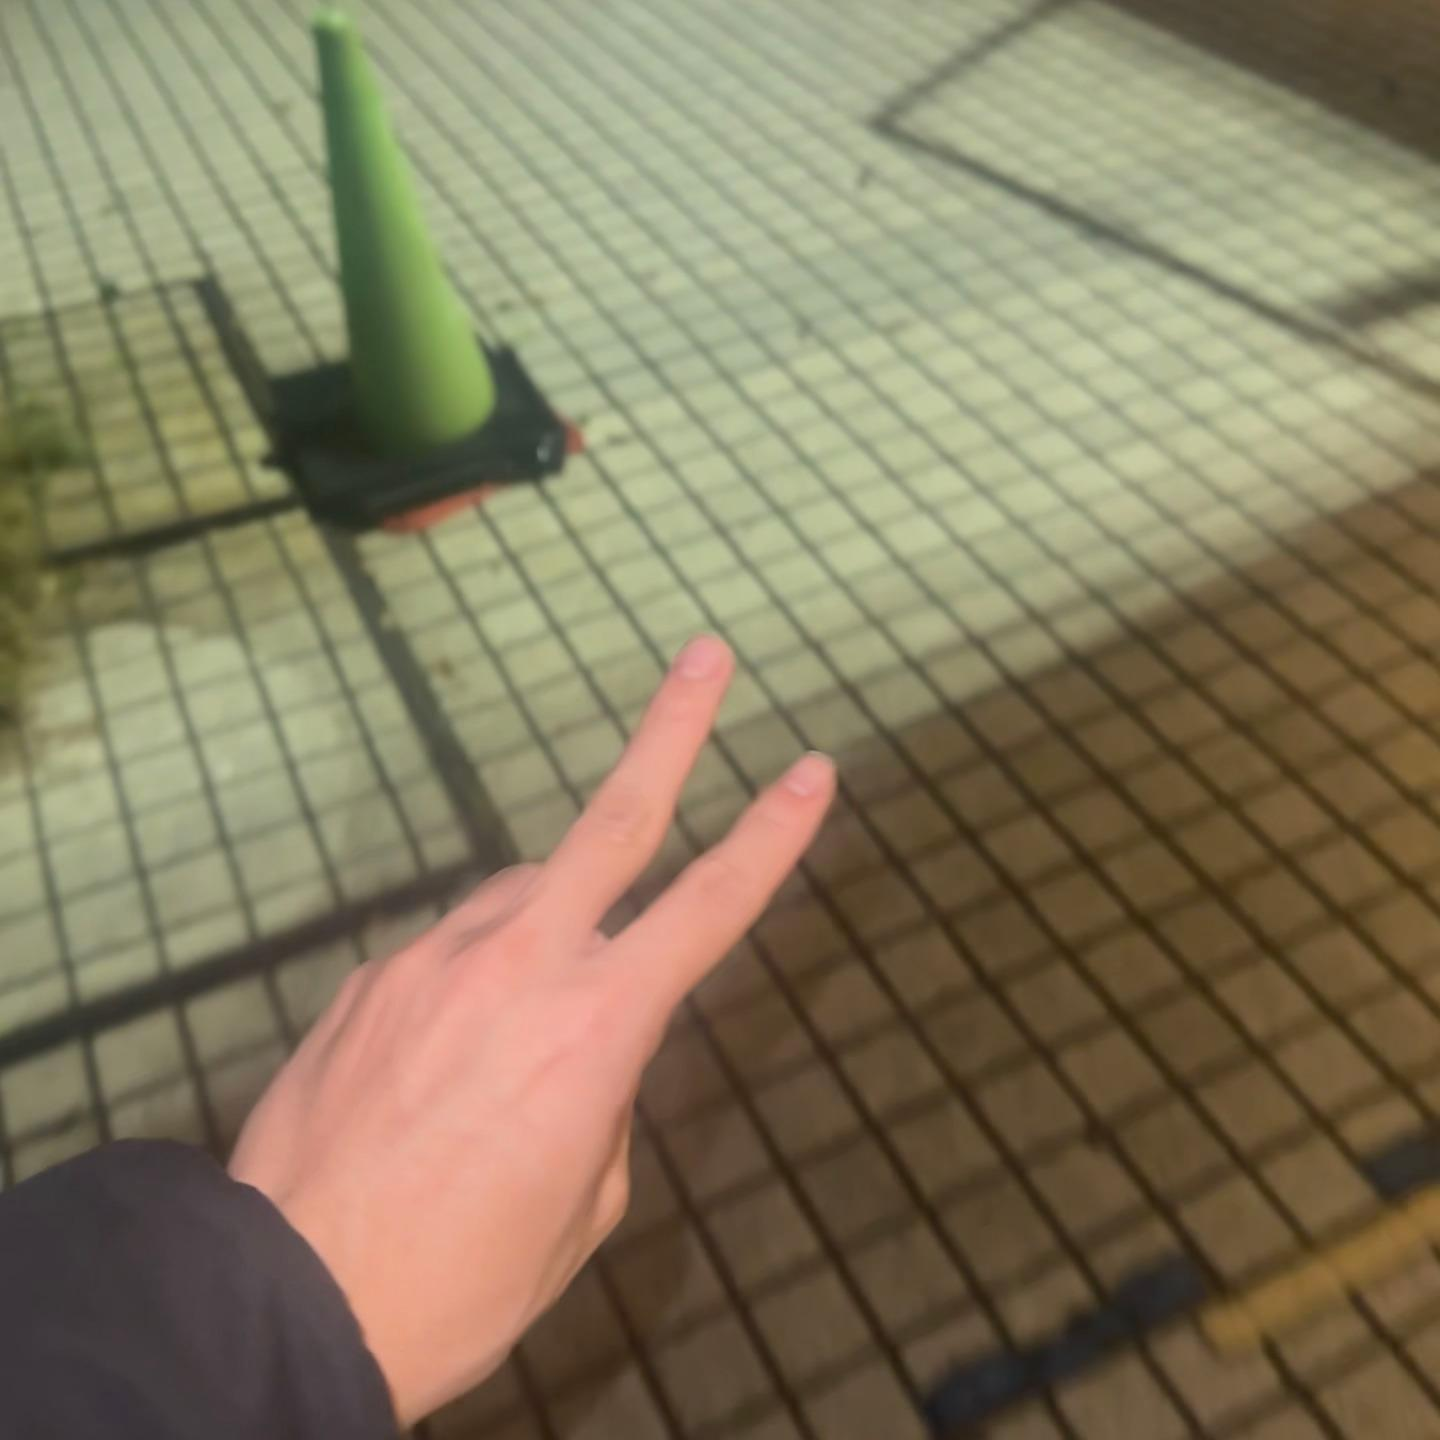without_gloves: (283, 456, 1086, 1378)
